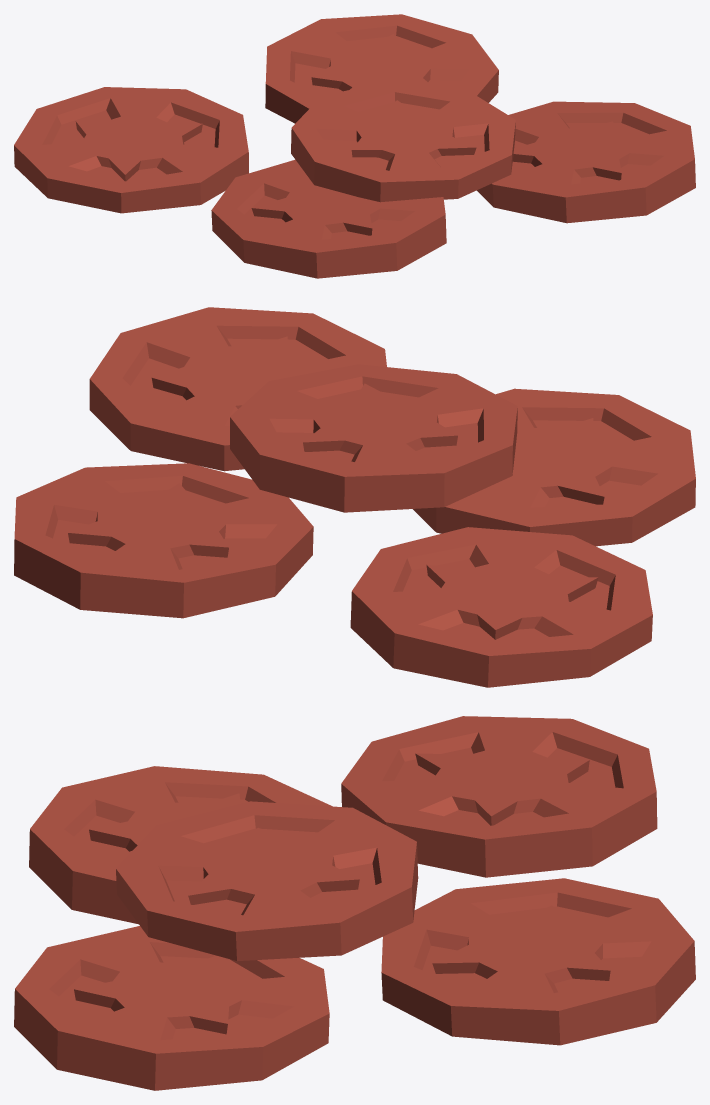
Rendered from Tomato_Slice.glb.
3 views of the same model, one above another, from view 1: azimuth 30°, elevation 25°; view 2: azimuth 150°, elevation 25°; view 3: azimuth 270°, elevation 25° (orthographic). The views are drawn at different scales.
Parts seen in each view (by area): view 1: Tomato_Slice; view 2: Tomato_Slice; view 3: Tomato_Slice.
Part boxes in pixels (bbox=[...]): Tomato_Slice: bbox=[14, 14, 695, 278]; Tomato_Slice: bbox=[14, 307, 695, 687]; Tomato_Slice: bbox=[14, 716, 695, 1090].
Size of the model in its own units: 0.8057 by 0.0765 by 0.6686.
